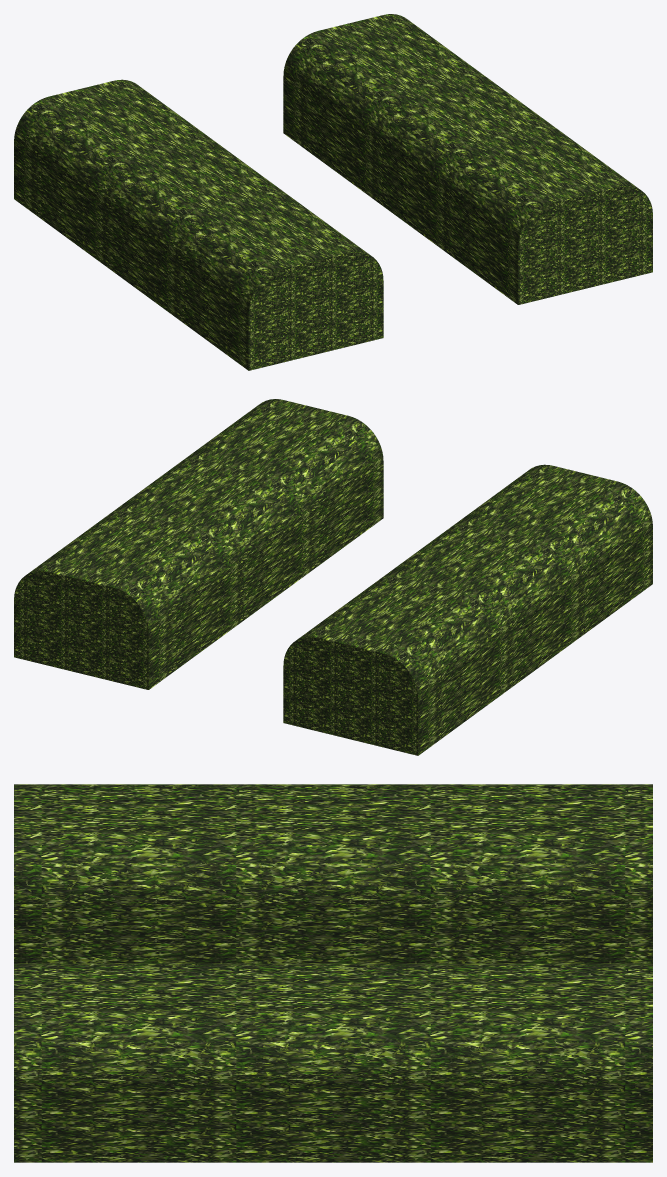
The model's file is Straight_piece.fbx.
3 renders of one model, top to bottom at view 1: azimuth 30°, elevation 25°; view 2: azimuth 150°, elevation 25°; view 3: azimuth 270°, elevation 25°, orthographic. The views are drawn at different scales.
Visible parts, largest first — view 1: pCube16; view 2: pCube16; view 3: pCube16.
Part boxes in pixels (x1,y1,x2,y2): pCube16: (14,14,652,370); pCube16: (14,399,652,755); pCube16: (14,784,652,1162).
Bounding box in the file's own units: 9 × 2 × 9.05.
